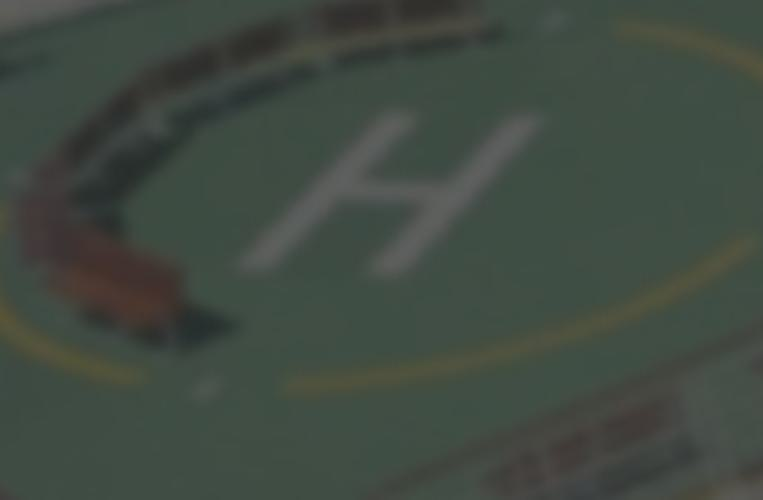Apron: (3, 1, 762, 400)
